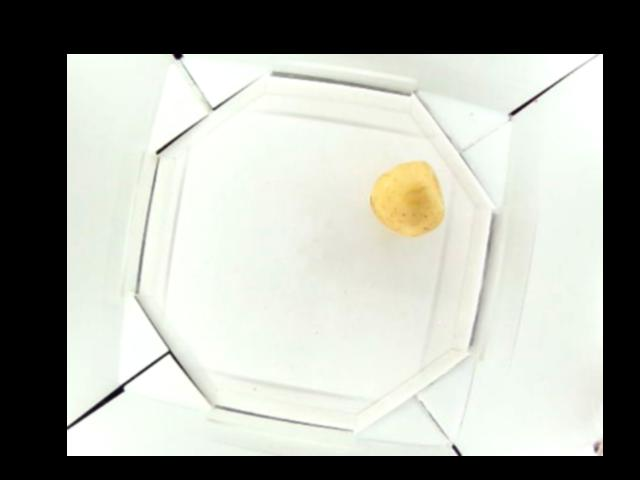Potato: (367, 163, 446, 233)
